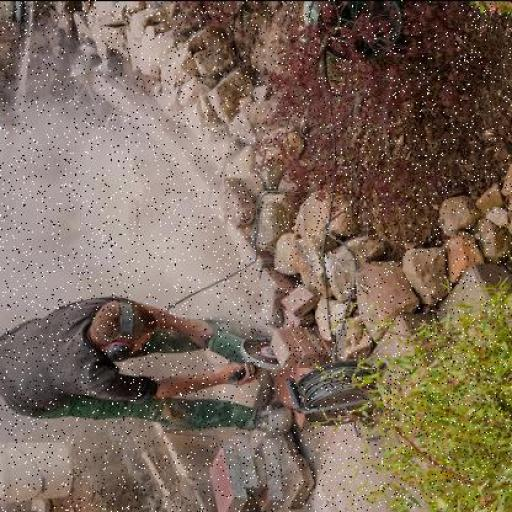person: (0, 290, 315, 453)
safety_shoe: (242, 406, 300, 432)
